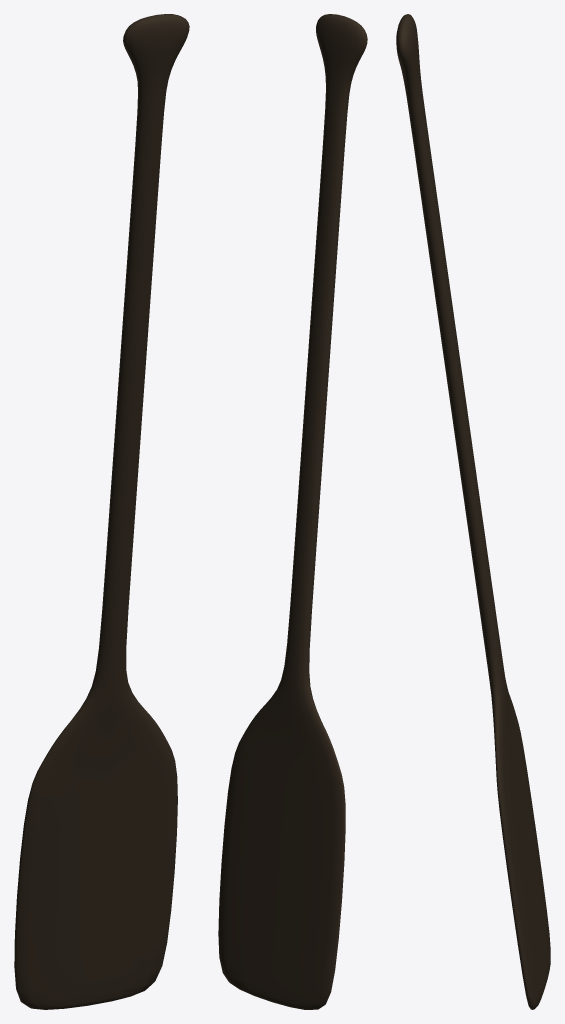
File: oar.obj
3 renders of one model, left to right at view 1: azimuth 30°, elevation 25°; view 2: azimuth 150°, elevation 25°; view 3: azimuth 270°, elevation 25°, orthographic. The views are drawn at different scales.
Visible parts, largest first — view 1: Oar_2_Plane.001; view 2: Oar_2_Plane.001; view 3: Oar_2_Plane.001.
Boxes of the visible parts, bbox=[...] form: Oar_2_Plane.001: bbox=[14, 14, 189, 1009]; Oar_2_Plane.001: bbox=[218, 14, 367, 1009]; Oar_2_Plane.001: bbox=[396, 14, 550, 1009].
Size of the model in its own units: 0.229 by 1.57 by 0.226.
